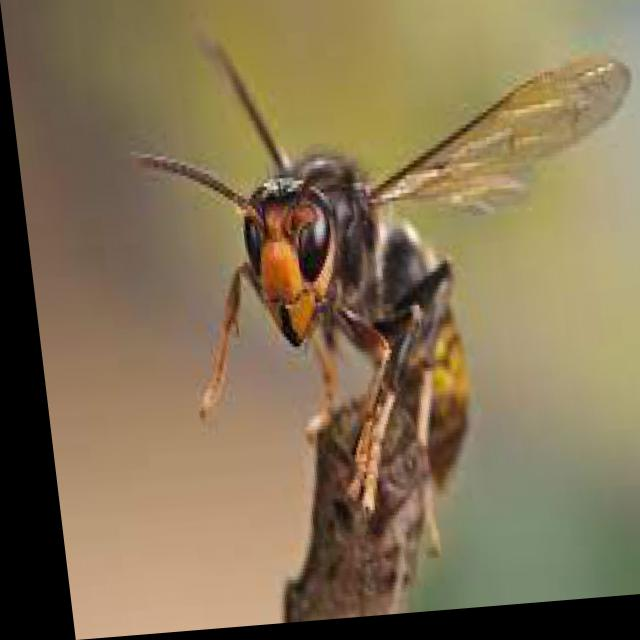Vespa Velutina: (104, 0, 639, 593)
